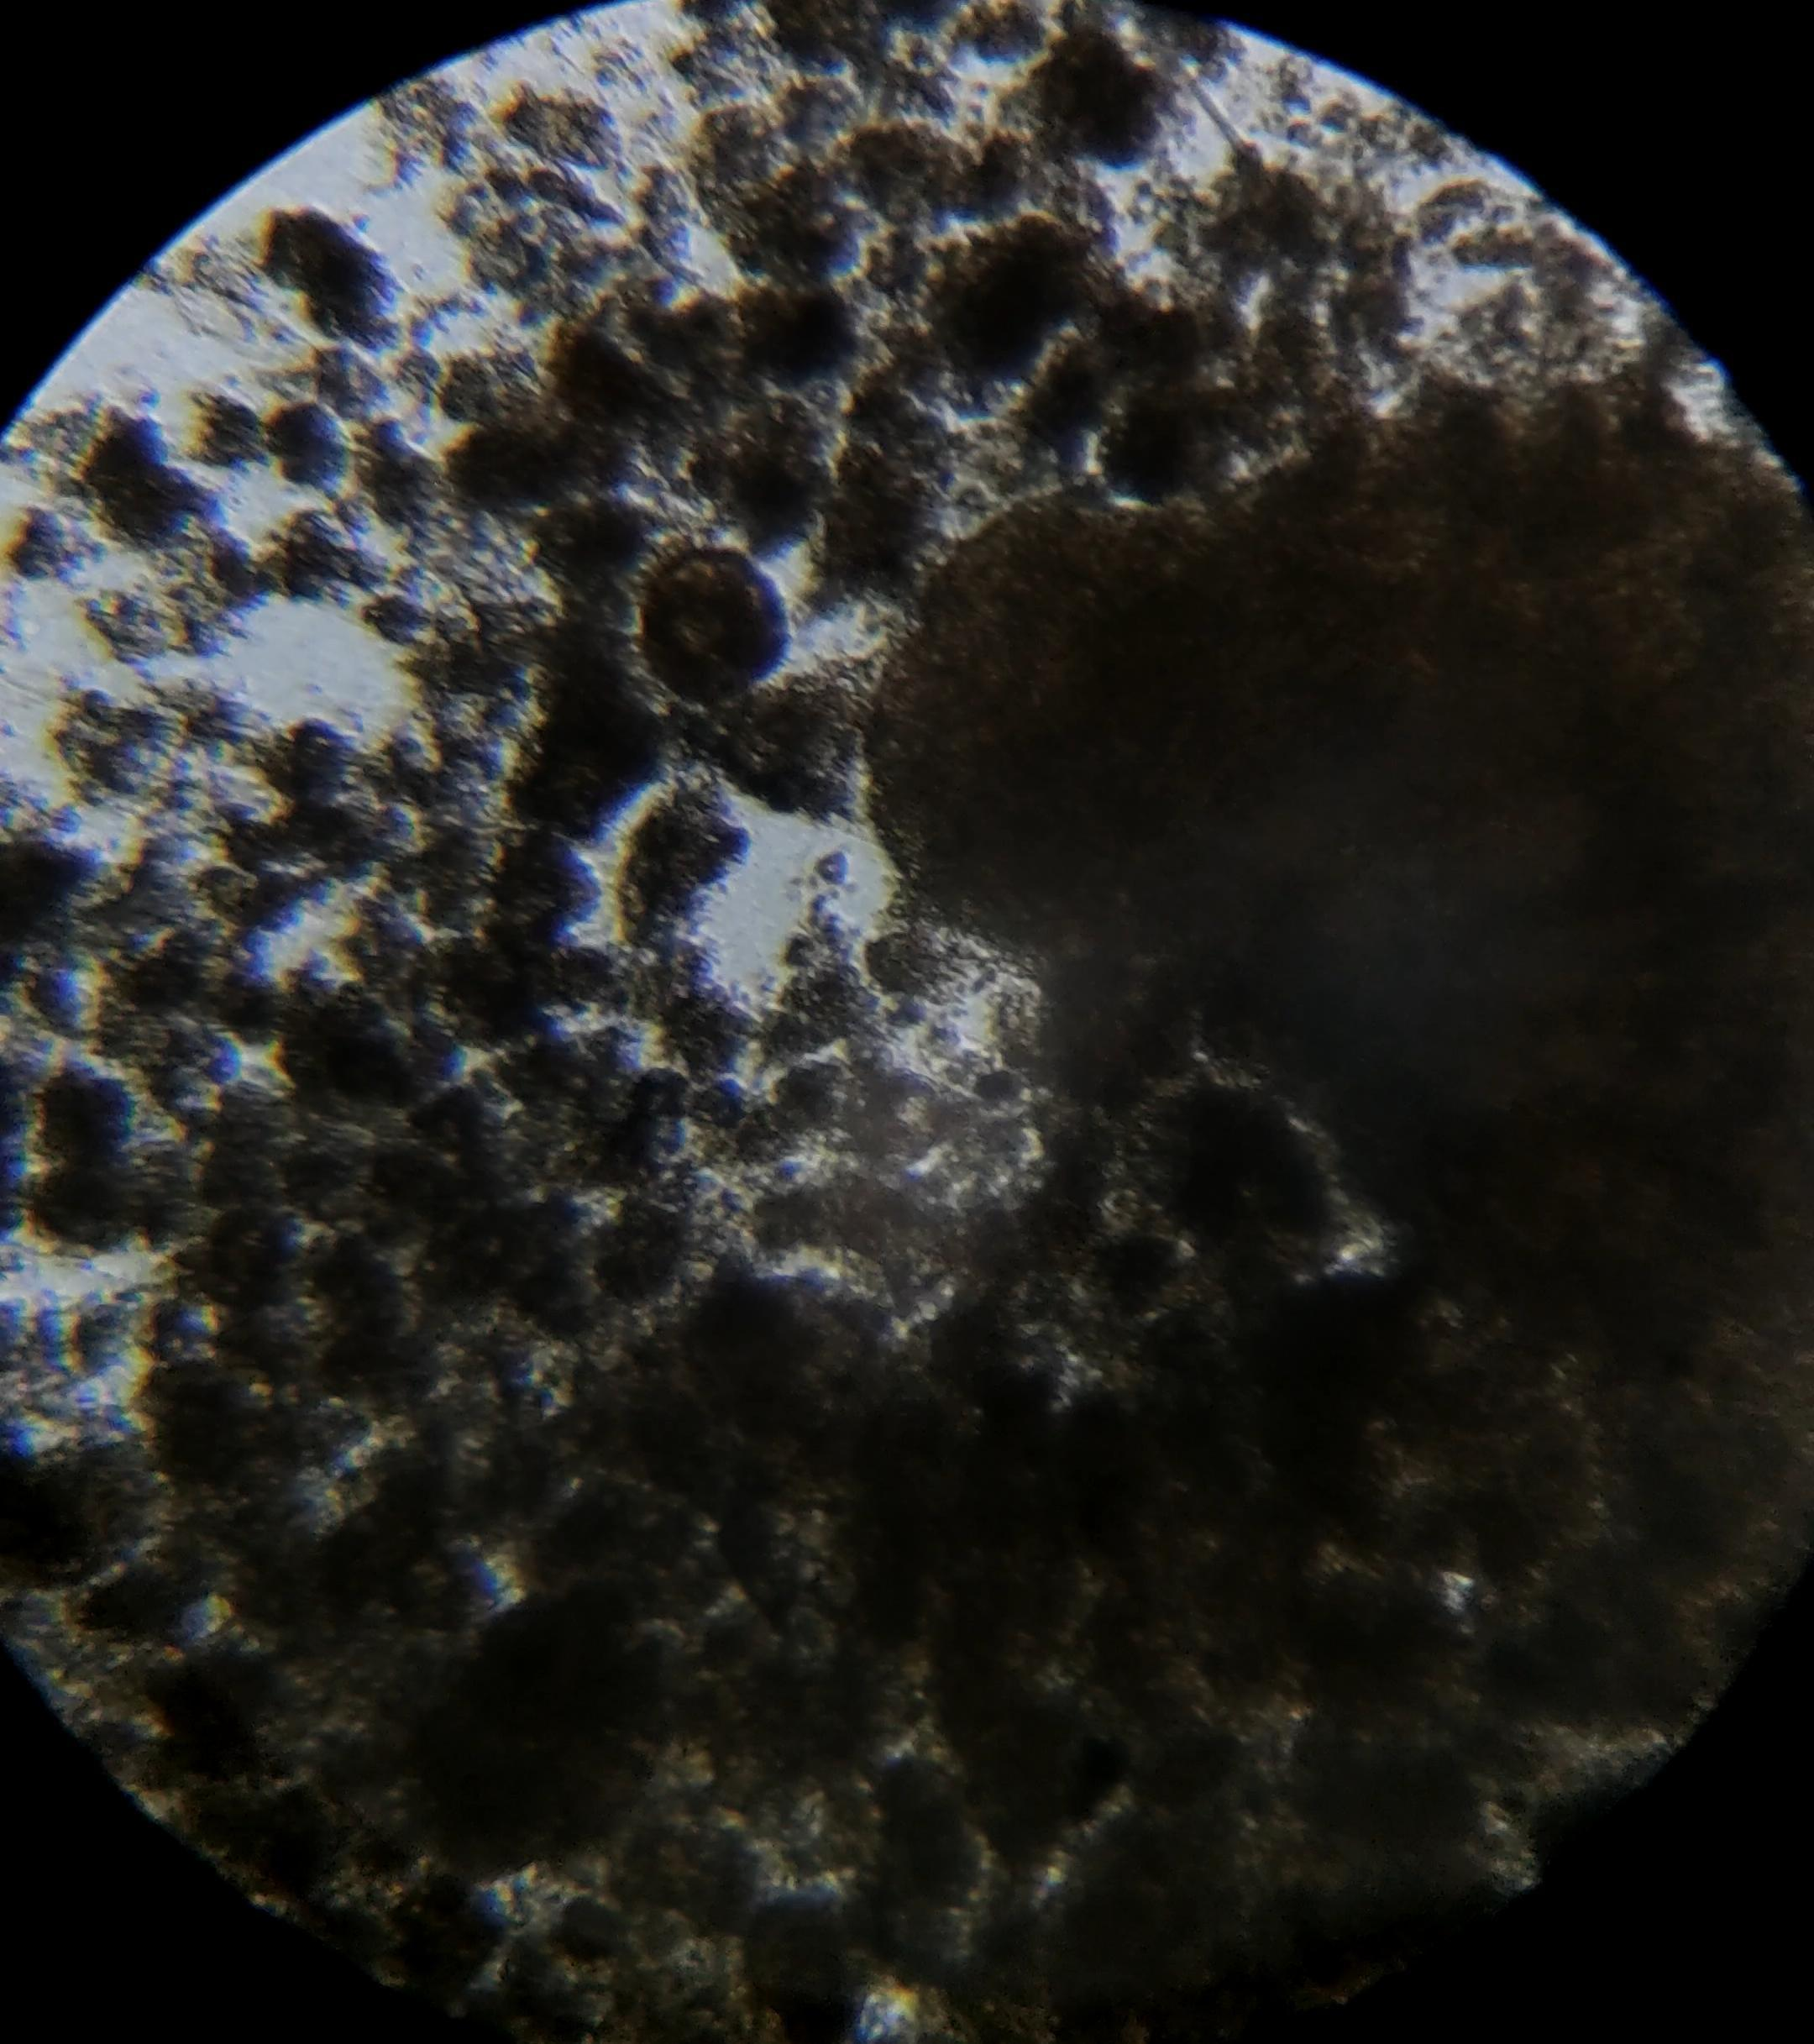Arcella: (644, 550, 781, 701)
